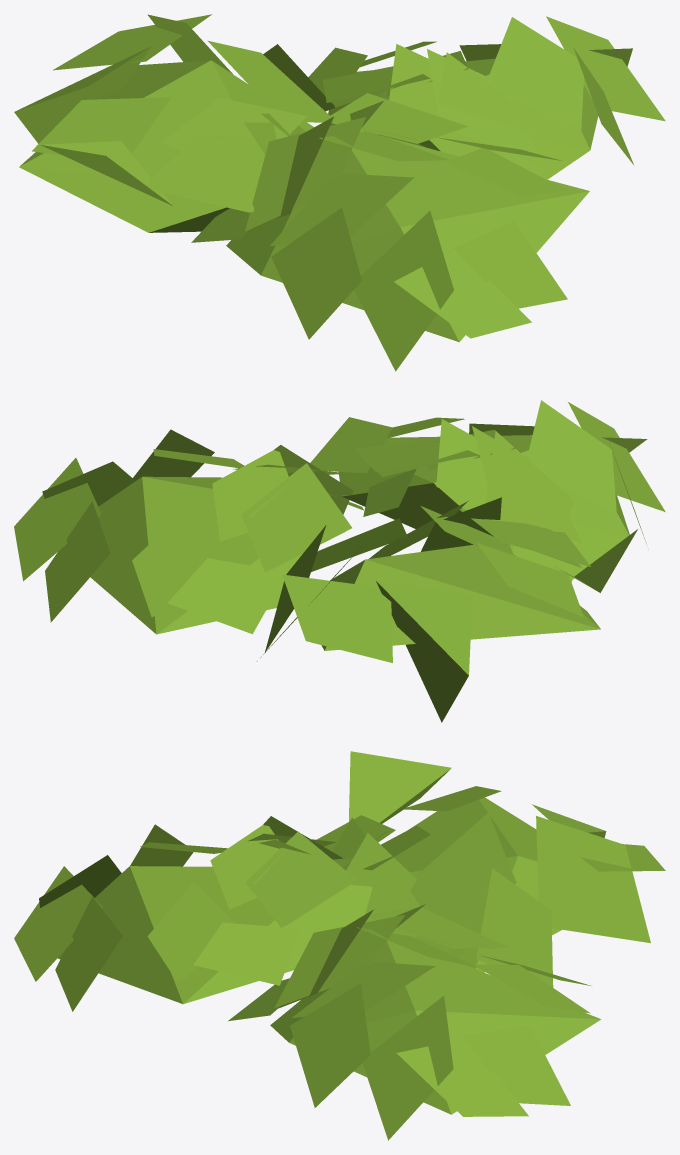
The model's file is SM_Leaves_Bunch_E.fbx.
3 views of the same model, one above another, from view 1: azimuth 30°, elevation 25°; view 2: azimuth 150°, elevation 25°; view 3: azimuth 270°, elevation 25° (orthographic). The views are drawn at different scales.
Parts seen in each view (by area): view 1: leaves-bunch-e; view 2: leaves-bunch-e; view 3: leaves-bunch-e.
Part boxes in pixels (left/top/right/bottom): leaves-bunch-e: left=14, top=14, right=665, bottom=371; leaves-bunch-e: left=14, top=400, right=665, bottom=722; leaves-bunch-e: left=14, top=751, right=665, bottom=1140.
Size of the model in its own units: 1.02 by 0.2772 by 0.9877.
